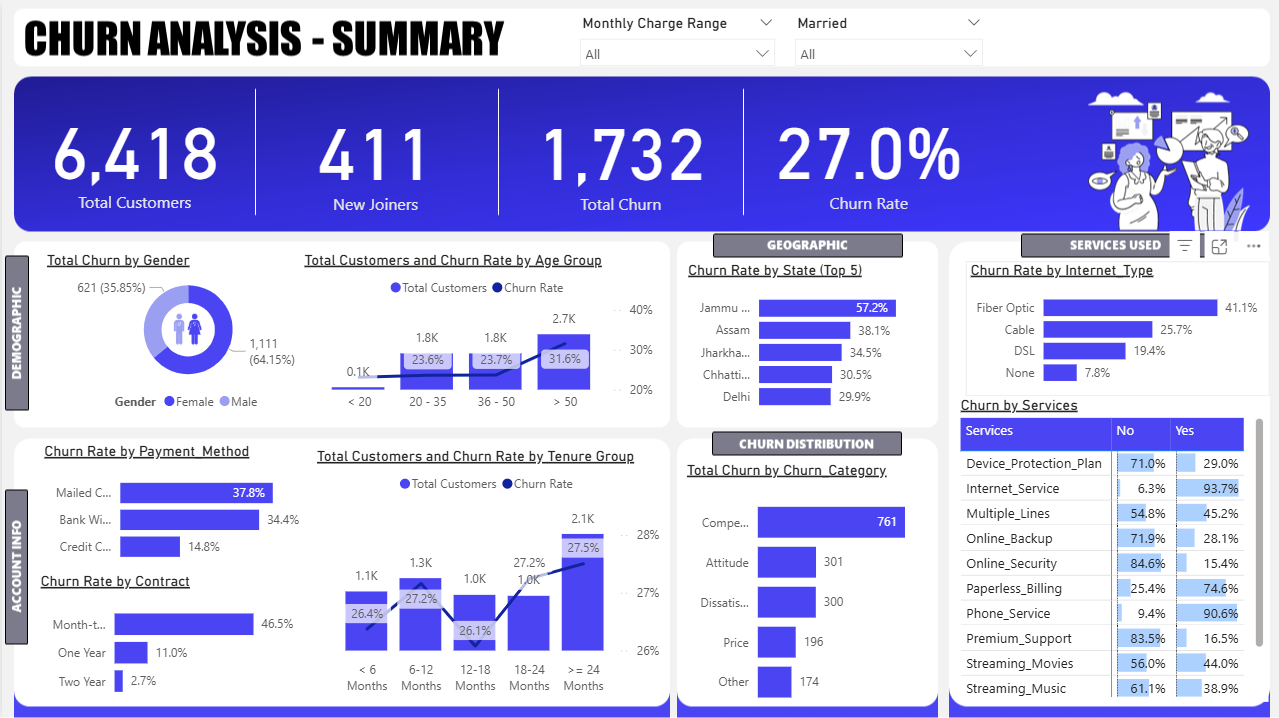

This screenshot's page, from the dashboard's own definition file:
{"tool":"powerbi","page":{"name":"Summary","canvas":[1280,720],"ordinal":0},"visuals":[{"type":"donutChart","fields":{"Category":["prod_Churn.Gender"],"Y":["tbl_Measures.Total Churn"]},"box":[40,251.4,292.9,168.6],"z":0},{"type":"card","fields":{"Values":["tbl_Measures.Total Customers"]},"box":[13.3,76.7,238.3,155],"z":1000},{"type":"card","fields":{"Values":["tbl_Measures.New Joiners"]},"box":[251,77,245,155],"z":2000},{"type":"card","fields":{"Values":["tbl_Measures.Total Churn"]},"box":[495.7,77.1,245.7,155.7],"z":3000},{"type":"card","fields":{"Values":["tbl_Measures.Churn Rate"]},"box":[741.4,75.7,251.4,155.7],"z":4000},{"type":"lineStackedColumnComboChart","fields":{"Category":["mapping_AgeGrp.Age Group"],"Y":["tbl_Measures.Total Customers"],"Y2":["tbl_Measures.Churn Rate"]},"box":[297.1,251.4,358.6,168.6],"z":5000},{"type":"clusteredBarChart","fields":{"Category":["prod_Churn.Payment_Method"],"Y":["tbl_Measures.Churn Rate"]},"box":[37.1,442.9,272.9,131.4],"z":6000},{"type":"lineStackedColumnComboChart","fields":{"Category":["mapping_TenureGrp.Tenure Group"],"Y":["tbl_Measures.Total Customers"],"Y2":["tbl_Measures.Churn Rate"]},"box":[310,447.1,352.9,254.3],"z":7000},{"type":"clusteredBarChart","title":"Churn Rate by State (Top 5)","fields":{"Category":["prod_Churn.State"],"Y":["tbl_Measures.Churn Rate"]},"box":[681.4,261.4,251.4,158.6],"z":8000},{"type":"clusteredBarChart","fields":{"Category":["prod_Churn.Churn_Category"],"Y":["tbl_Measures.Total Churn"]},"box":[680,461.4,252.9,258.6],"z":9000},{"type":"clusteredBarChart","fields":{"Category":["prod_Churn.Internet_Type"],"Y":["tbl_Measures.Churn Rate"]},"box":[964.3,261.4,302.9,134.3],"z":10000},{"type":"pivotTable","title":"Churn by Services","fields":{"Rows":["prod_Services.Services"],"Columns":["prod_Services.Status"],"Values":["Sum(prod_Services.Churn Status)"]},"box":[954.3,395.7,312.9,305.7],"z":11000},{"type":"slicer","fields":{"Values":["prod_Services.Monthly Charge Status"]},"box":[567.1,10,215.7,67.1],"z":12000},{"type":"slicer","fields":{"Values":["prod_Services.Married"]},"box":[782.9,10,208.6,65.7],"z":13000},{"type":"image","box":[145,304,81,50],"z":14000},{"type":"clusteredBarChart","fields":{"Category":["prod_Churn.Contract"],"Y":["tbl_Measures.Churn Rate"]},"box":[34.3,572.9,262.9,137.1],"z":15000},{"type":"shape","box":[1070,8.3,188.3,56.7],"z":15001}]}

Visuals, with their boxes in screenshot pixels (x1, y1, x2, y2), scaled from the page's 1280x720 canvas onto the 1279x718 screenshot:
donutChart - prod_Churn.Gender x tbl_Measures.Total Churn: <bbox>40, 251, 333, 419</bbox>
card - tbl_Measures.Total Customers: <bbox>13, 76, 251, 231</bbox>
card - tbl_Measures.New Joiners: <bbox>251, 77, 496, 231</bbox>
card - tbl_Measures.Total Churn: <bbox>495, 77, 741, 232</bbox>
card - tbl_Measures.Churn Rate: <bbox>741, 75, 992, 231</bbox>
lineStackedColumnComboChart - mapping_AgeGrp.Age Group x tbl_Measures.Total Customers: <bbox>297, 251, 655, 419</bbox>
clusteredBarChart - prod_Churn.Payment_Method x tbl_Measures.Churn Rate: <bbox>37, 442, 310, 573</bbox>
lineStackedColumnComboChart - mapping_TenureGrp.Tenure Group x tbl_Measures.Total Customers: <bbox>310, 446, 662, 699</bbox>
"Churn Rate by State (Top 5)" clusteredBarChart: <bbox>681, 261, 932, 419</bbox>
clusteredBarChart - prod_Churn.Churn_Category x tbl_Measures.Total Churn: <bbox>679, 460, 932, 717</bbox>
clusteredBarChart - prod_Churn.Internet_Type x tbl_Measures.Churn Rate: <bbox>964, 261, 1266, 395</bbox>
"Churn by Services" pivotTable: <bbox>954, 395, 1266, 699</bbox>
slicer - prod_Services.Monthly Charge Status: <bbox>567, 10, 782, 77</bbox>
slicer - prod_Services.Married: <bbox>782, 10, 991, 75</bbox>
image: <bbox>145, 303, 226, 353</bbox>
clusteredBarChart - prod_Churn.Contract x tbl_Measures.Churn Rate: <bbox>34, 571, 297, 708</bbox>
shape: <bbox>1069, 8, 1257, 65</bbox>
